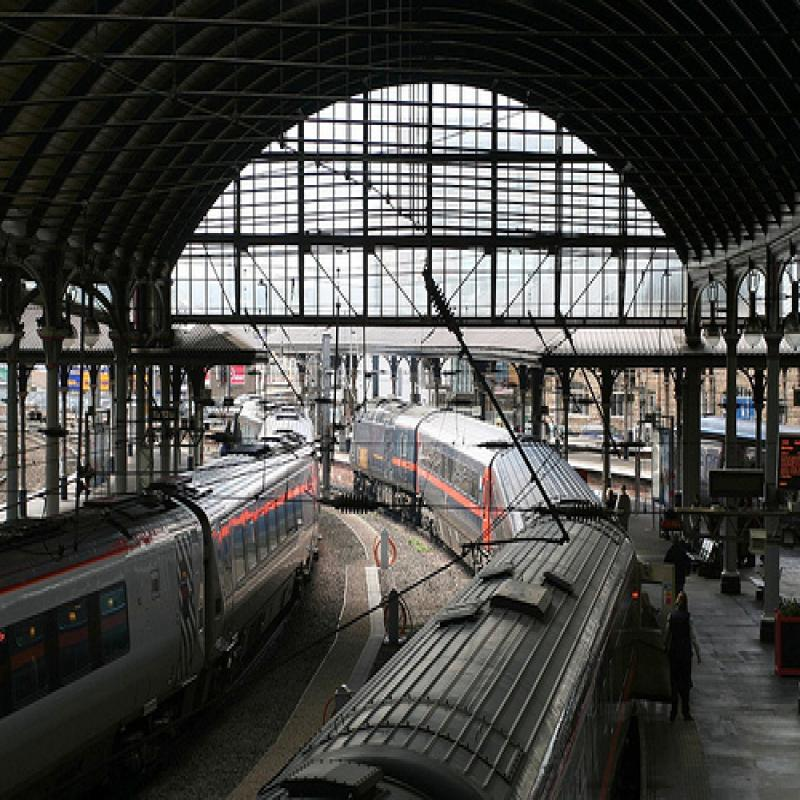train: (260, 388, 675, 799), (1, 388, 324, 784), (696, 407, 800, 530)
